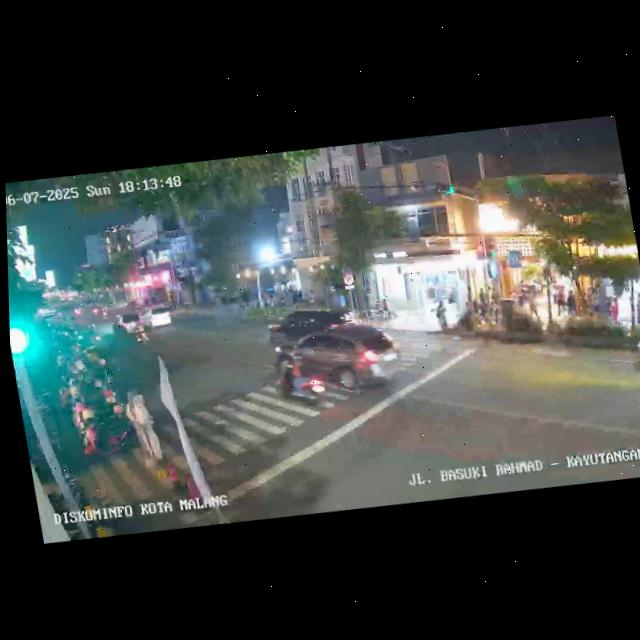car: (277, 316, 405, 408), (263, 301, 356, 348), (138, 302, 176, 334), (109, 309, 144, 338)
motorcycle: (270, 338, 331, 418), (130, 314, 151, 347)
person: (131, 393, 163, 461), (122, 388, 149, 454), (434, 299, 450, 333), (563, 286, 579, 317), (606, 296, 621, 328), (527, 292, 540, 319), (632, 291, 640, 327)
